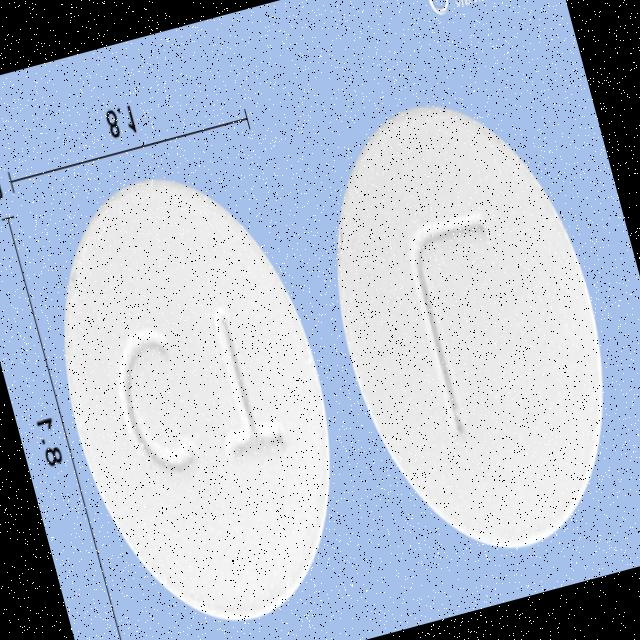Leflocin: (18, 147, 376, 640), (290, 80, 640, 581)
